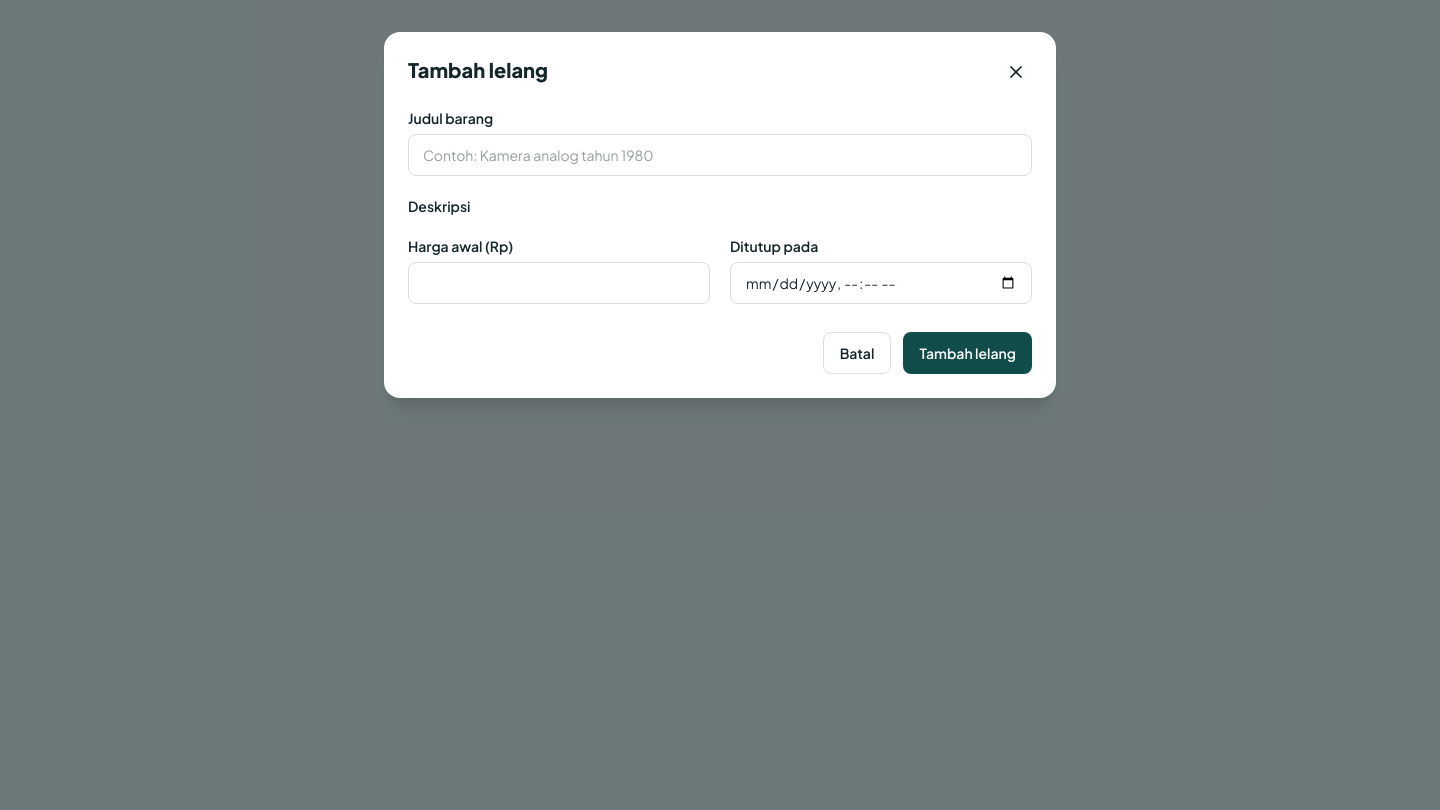
Test: AddModal › menampilkan semua pesan validasi
This screenshot has width=1440, height=810.
Click the button "Tambah lelang": (968, 353) [903,332,1032,374]
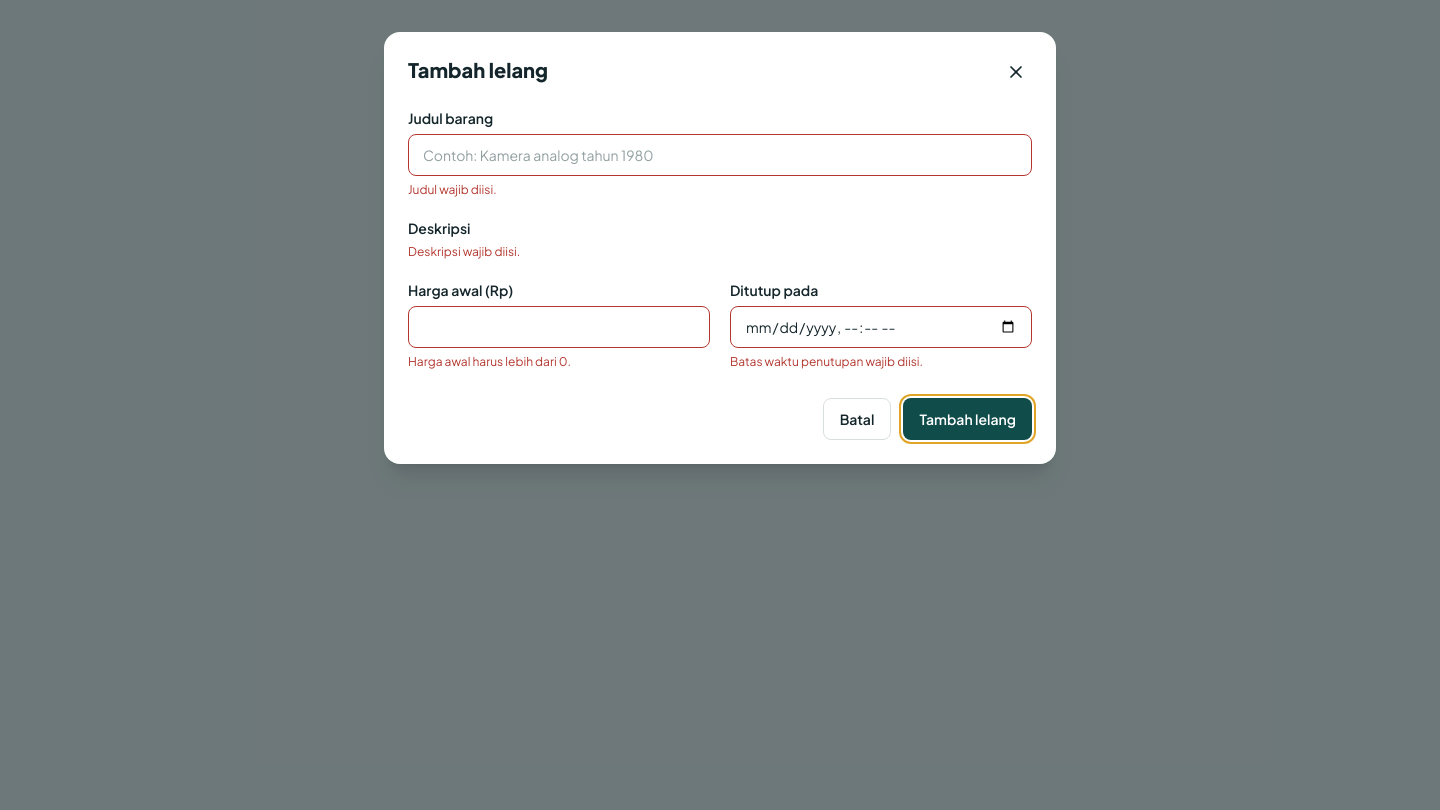
Result: the text "Judul wajib diisi." is shown at [408,182,497,197]
Result: the text "Deskripsi wajib diisi." is shown at [408,244,520,259]
Result: the text "Harga awal harus lebih dari 0." is shown at [408,354,571,369]
